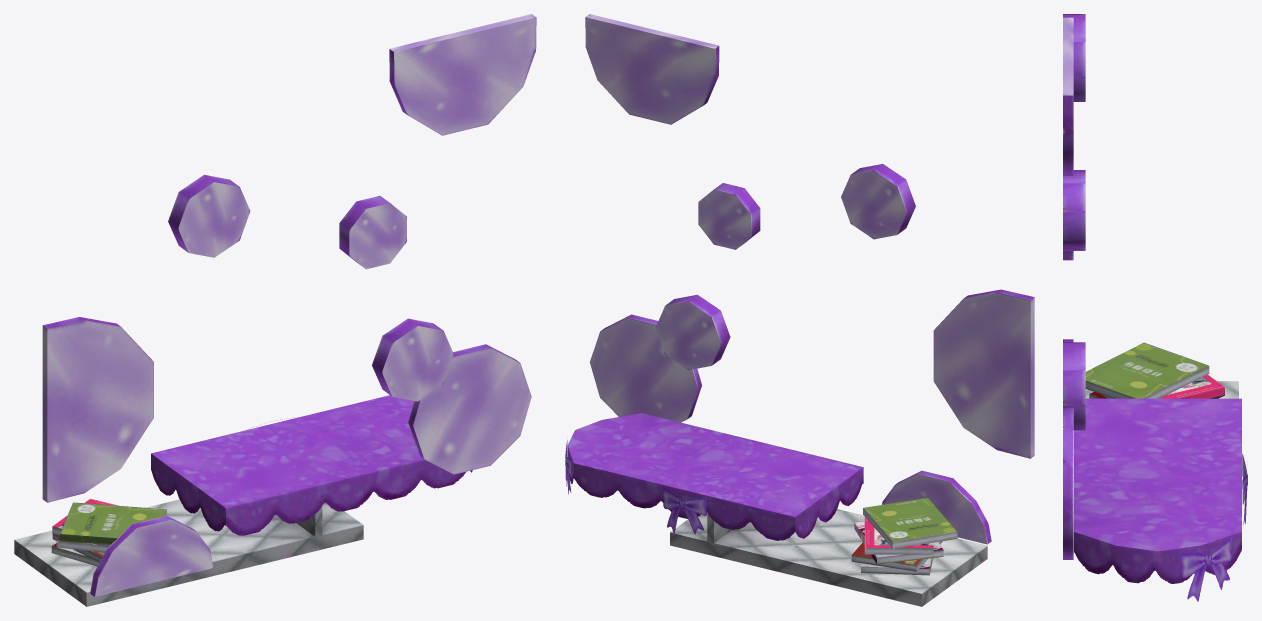
Rendered from furni_0200029_01.FBX.
3 renders of one model, left to right at view 1: azimuth 30°, elevation 25°; view 2: azimuth 150°, elevation 25°; view 3: azimuth 270°, elevation 25°, orthographic. The views are drawn at different scales.
Visible parts, largest first — view 1: furni_0200029_01; view 2: furni_0200029_01; view 3: furni_0200029_01.
Boxes of the visible parts, box(x1,y1,x2,y2) form: furni_0200029_01: box(14, 14, 536, 606); furni_0200029_01: box(565, 14, 1034, 606); furni_0200029_01: box(1063, 14, 1247, 601).
Bounding box in the file's own units: 281 × 267 × 82.18.
